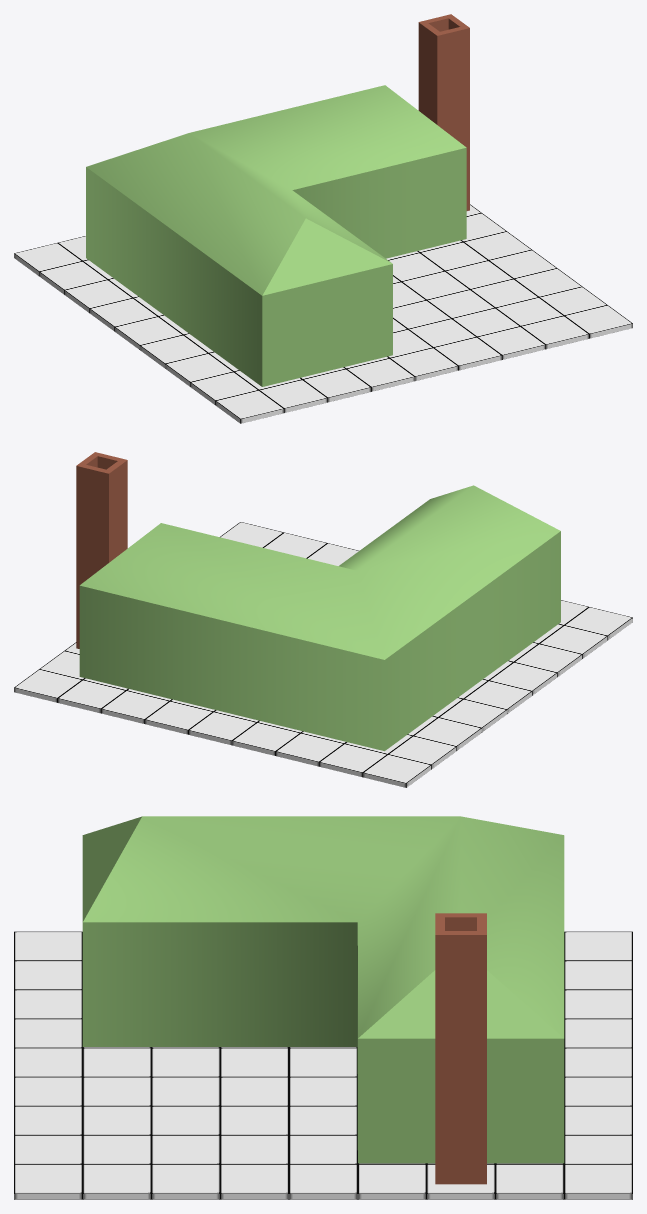
File: XG_Bathhouse.glb
The picture shows the model from 3 angles, top to bottom: view 1: azimuth 30°, elevation 25°; view 2: azimuth 150°, elevation 25°; view 3: azimuth 270°, elevation 25°; orthographic projection. The views are drawn at different scales.
Parts seen in each view (by area): view 1: building_7m_3m_g_shape_008, building_3m_3m_011, 1m_base_block_3316, 1m_base_block_3310, 1m_base_block_3313, 1m_base_block_3314, 1m_base_block_3309, 1m_base_block_3311, 1m_base_block_3315, 1m_base_block_3317, 1m_base_block_3312, 1m_base_block_3297 (+23 smaller); view 2: building_7m_3m_g_shape_008, building_3m_3m_011, 1m_base_block_3325, 1m_base_block_3319, 1m_base_block_3323, 1m_base_block_3322, 1m_base_block_3318, 1m_base_block_3324, 1m_base_block_3326, 1m_base_block_3320, 1m_base_block_3321, 1m_base_block_3301 (+11 smaller); view 3: building_7m_3m_g_shape_008, building_3m_3m_011, 1m_base_block_3306, 1m_base_block_3307, 1m_base_block_3308, 1m_base_block_3303, 1m_base_block_3304, 1m_base_block_3305, 1m_base_block_3317, 1m_base_block_3326, 1m_base_block_3276, 1m_base_block_3287 (+31 smaller).
Part boxes in pixels (x1,y1,x2,y2): building_7m_3m_g_shape_008: (86,85,466,386); building_3m_3m_011: (418,14,469,210); 1m_base_block_3316: (215,390,284,423); 1m_base_block_3310: (434,337,502,370); 1m_base_block_3313: (303,369,371,402); 1m_base_block_3314: (521,316,589,349); 1m_base_block_3309: (477,326,545,359); 1m_base_block_3311: (390,347,458,380); 1m_base_block_3315: (259,379,327,412); 1m_base_block_3317: (564,305,632,338); 1m_base_block_3312: (347,358,414,391); 1m_base_block_3297: (114,316,182,349); building_7m_3m_g_shape_008: (79,485,560,751); building_3m_3m_011: (76,452,127,648); 1m_base_block_3325: (362,754,431,787); 1m_base_block_3319: (144,701,213,734); 1m_base_block_3323: (57,680,125,713); 1m_base_block_3322: (275,733,343,766); 1m_base_block_3318: (101,690,169,723); 1m_base_block_3324: (319,743,387,777); 1m_base_block_3326: (14,669,82,702); 1m_base_block_3320: (188,712,256,745); 1m_base_block_3321: (232,722,300,755); 1m_base_block_3301: (539,625,607,658); building_7m_3m_g_shape_008: (82,816,564,1163); building_3m_3m_011: (435,913,486,1184); 1m_base_block_3306: (151,1164,220,1199); 1m_base_block_3307: (495,1164,564,1199); 1m_base_block_3308: (82,1164,151,1199); 1m_base_block_3303: (358,1164,426,1199); 1m_base_block_3304: (289,1164,357,1199); 1m_base_block_3305: (220,1164,288,1199); 1m_base_block_3317: (14,1164,82,1199); 1m_base_block_3326: (564,1164,632,1199); 1m_base_block_3276: (82,1106,151,1135); 1m_base_block_3287: (82,1135,151,1164).
Bounding box in the file's own units: 9 × 4.15 × 9.
Materials: 3 (1 with a texture image).
